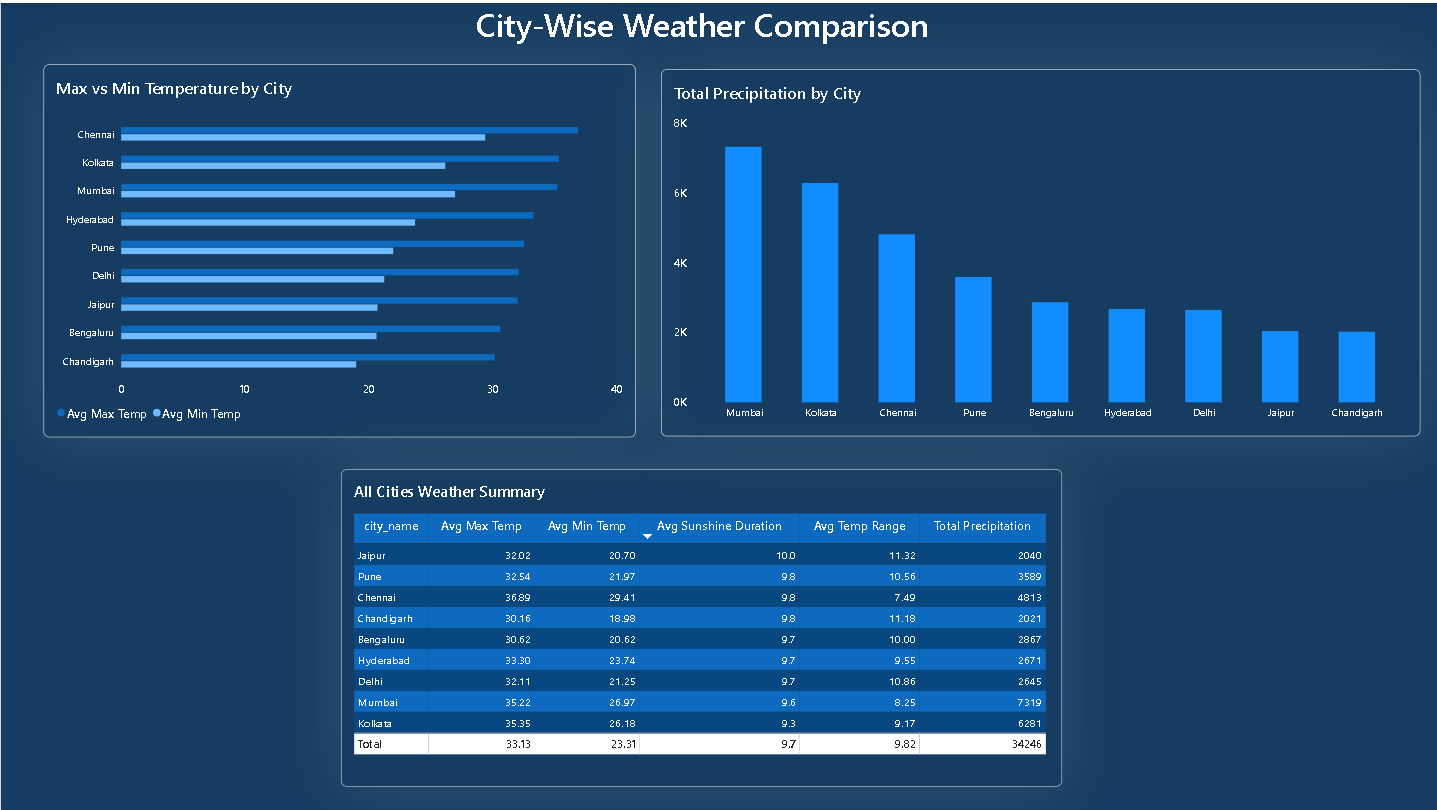

Layout of this report page (visuals, bound fields, positions):
{"tool":"powerbi","page":{"name":"City Comparison","canvas":[1920,1080],"ordinal":2},"visuals":[{"type":"clusteredBarChart","title":"Max vs Min Temperature by City","fields":{"Category":["public dim_city.city_name"],"Y":["public fact_weather.Avg Max Temp","public fact_weather.Avg Min Temp"]},"box":[57.2,81.2,791.4,498.1],"z":0},{"type":"clusteredColumnChart","title":"Total Precipitation by City","fields":{"Category":["public dim_city.city_name"],"Y":["public fact_weather.Total Precipitation"]},"box":[881.8,88.5,1014.6,490.7],"z":1},{"type":"tableEx","title":"All Cities Weather Summary","fields":{"Values":["public dim_city.city_name","public fact_weather.Avg Max Temp","public fact_weather.Avg Min Temp","public fact_weather.Avg Sunshine Duration","public fact_weather.Avg Temp Range","public fact_weather.Total Precipitation"]},"box":[453.8,623.5,963,424.3],"z":2},{"type":"textbox","box":[171.6,0,1529.3,81.2],"z":3}]}

Visuals, with their boxes in screenshot pixels (x1, y1, x2, y2), scaled from the page's 1920x1080 canvas onto the 1437x810 screenshot:
"Max vs Min Temperature by City" clusteredBarChart: Rect(43, 61, 635, 434)
"Total Precipitation by City" clusteredColumnChart: Rect(660, 66, 1419, 434)
"All Cities Weather Summary" tableEx: Rect(340, 468, 1060, 786)
textbox: Rect(128, 0, 1273, 61)
